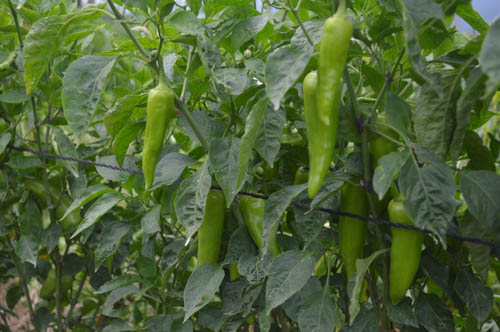ChiliPepper: (303, 70, 340, 205), (316, 18, 350, 130), (388, 198, 424, 302), (340, 182, 369, 283), (145, 88, 171, 190), (196, 190, 228, 270), (242, 200, 280, 251)
